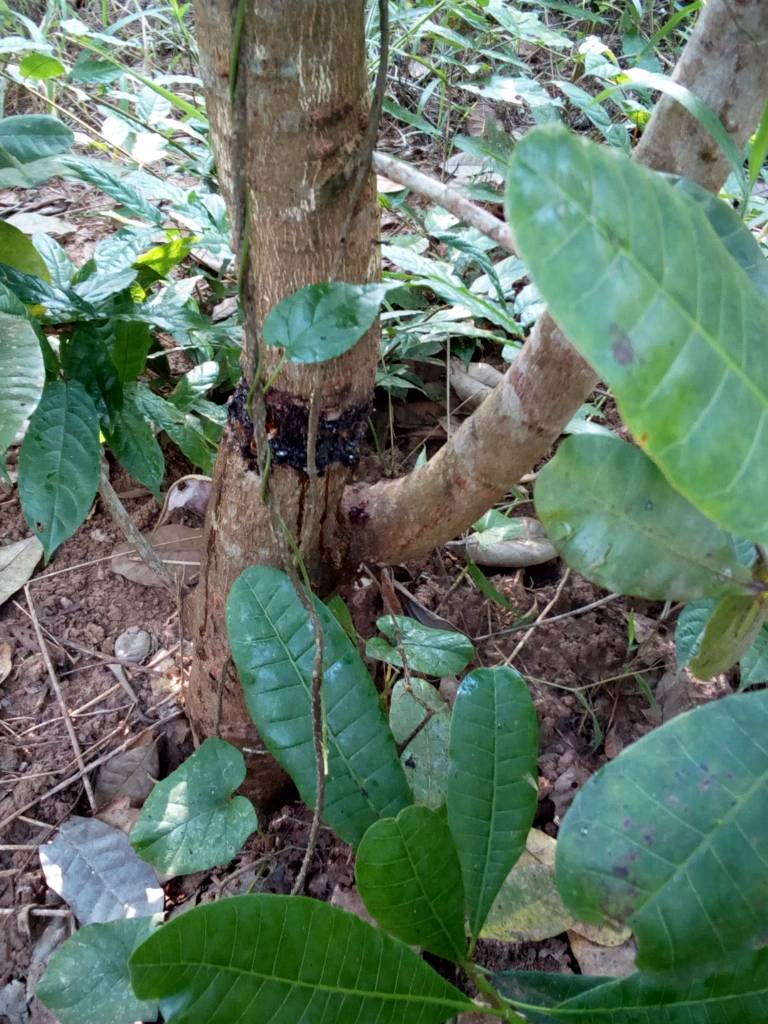Analepse trifasciata: (210, 374, 407, 500)
